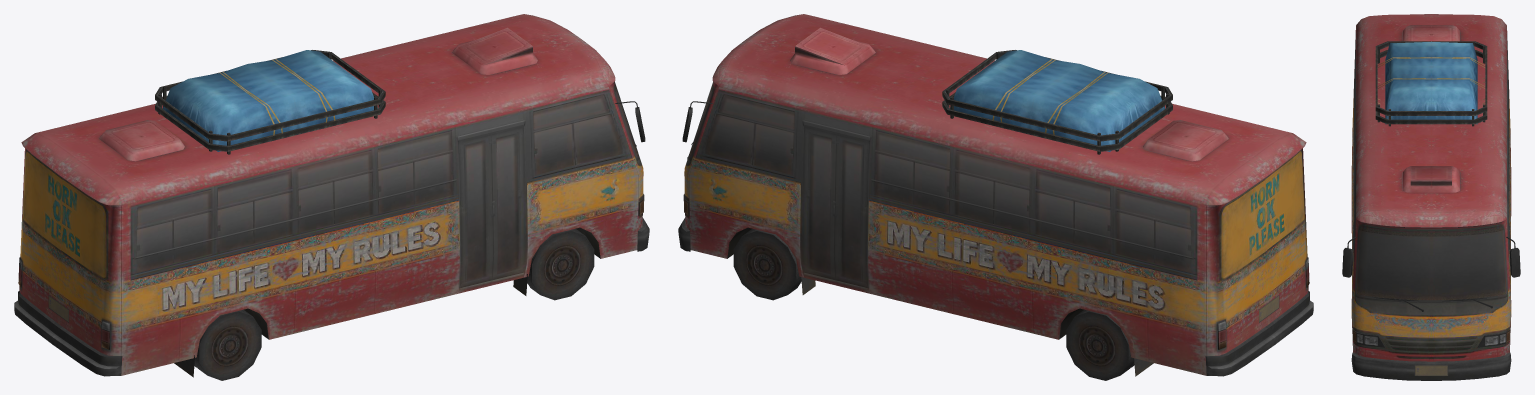
File: sf_bus_03.glb
3 views of the same model, side by side, from view 1: azimuth 30°, elevation 25°; view 2: azimuth 150°, elevation 25°; view 3: azimuth 270°, elevation 25° (orthographic). The views are drawn at different scales.
Visible parts, largest first — view 1: Traffic_Bus_03_Body, Traffic_Bus_Wheel_Front_R_2_Traffic_Bus_Component_2_0, Traffic_Bus_Wheel_Rear_R_2_Traffic_Bus_Component_2_0; view 2: Traffic_Bus_03_Body, Traffic_Bus_Wheel_Front_L_2_Traffic_Bus_Component_2_0, Traffic_Bus_Wheel_Rear_L_2_Traffic_Bus_Component_2_0; view 3: Traffic_Bus_03_Body, Traffic_Bus_03_Light.
Part boxes in pixels (x1=…): Traffic_Bus_03_Body: x1=14, y1=14, x2=649, y2=377; Traffic_Bus_Wheel_Front_R_2_Traffic_Bus_Component_2_0: x1=527, y1=228, x2=594, y2=300; Traffic_Bus_Wheel_Rear_R_2_Traffic_Bus_Component_2_0: x1=194, y1=309, x2=261, y2=380; Traffic_Bus_03_Body: x1=678, y1=14, x2=1313, y2=376; Traffic_Bus_Wheel_Front_L_2_Traffic_Bus_Component_2_0: x1=733, y1=228, x2=801, y2=300; Traffic_Bus_Wheel_Rear_L_2_Traffic_Bus_Component_2_0: x1=1066, y1=309, x2=1134, y2=380; Traffic_Bus_03_Body: x1=1342, y1=14, x2=1520, y2=380; Traffic_Bus_03_Light: x1=1356, y1=332, x2=1506, y2=347.
Size of the model in its own units: 8.74 by 3.62 by 2.91.
3 materials, 3 textured.
